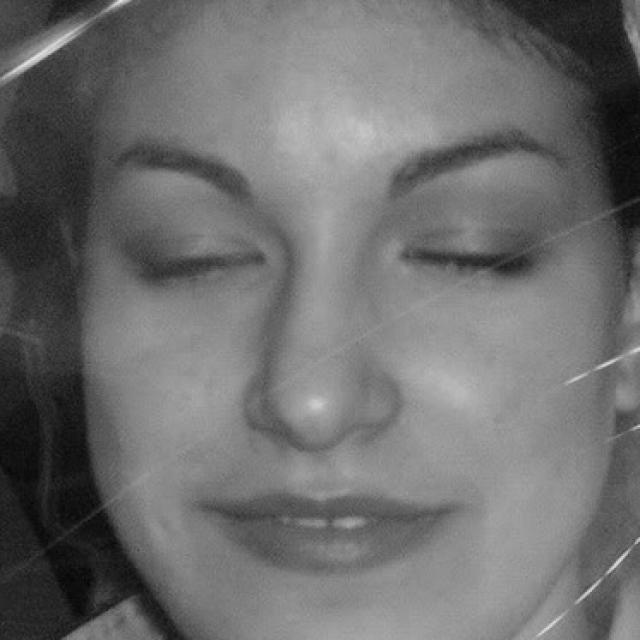real: (74, 7, 620, 629), (144, 179, 526, 319)
